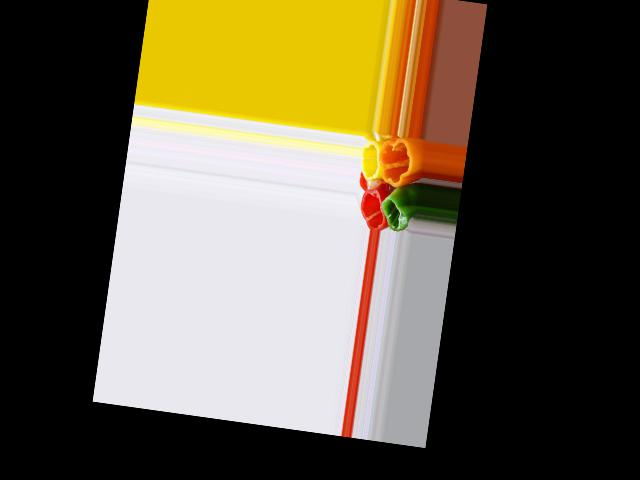bell_pepper: (356, 186, 387, 229)
